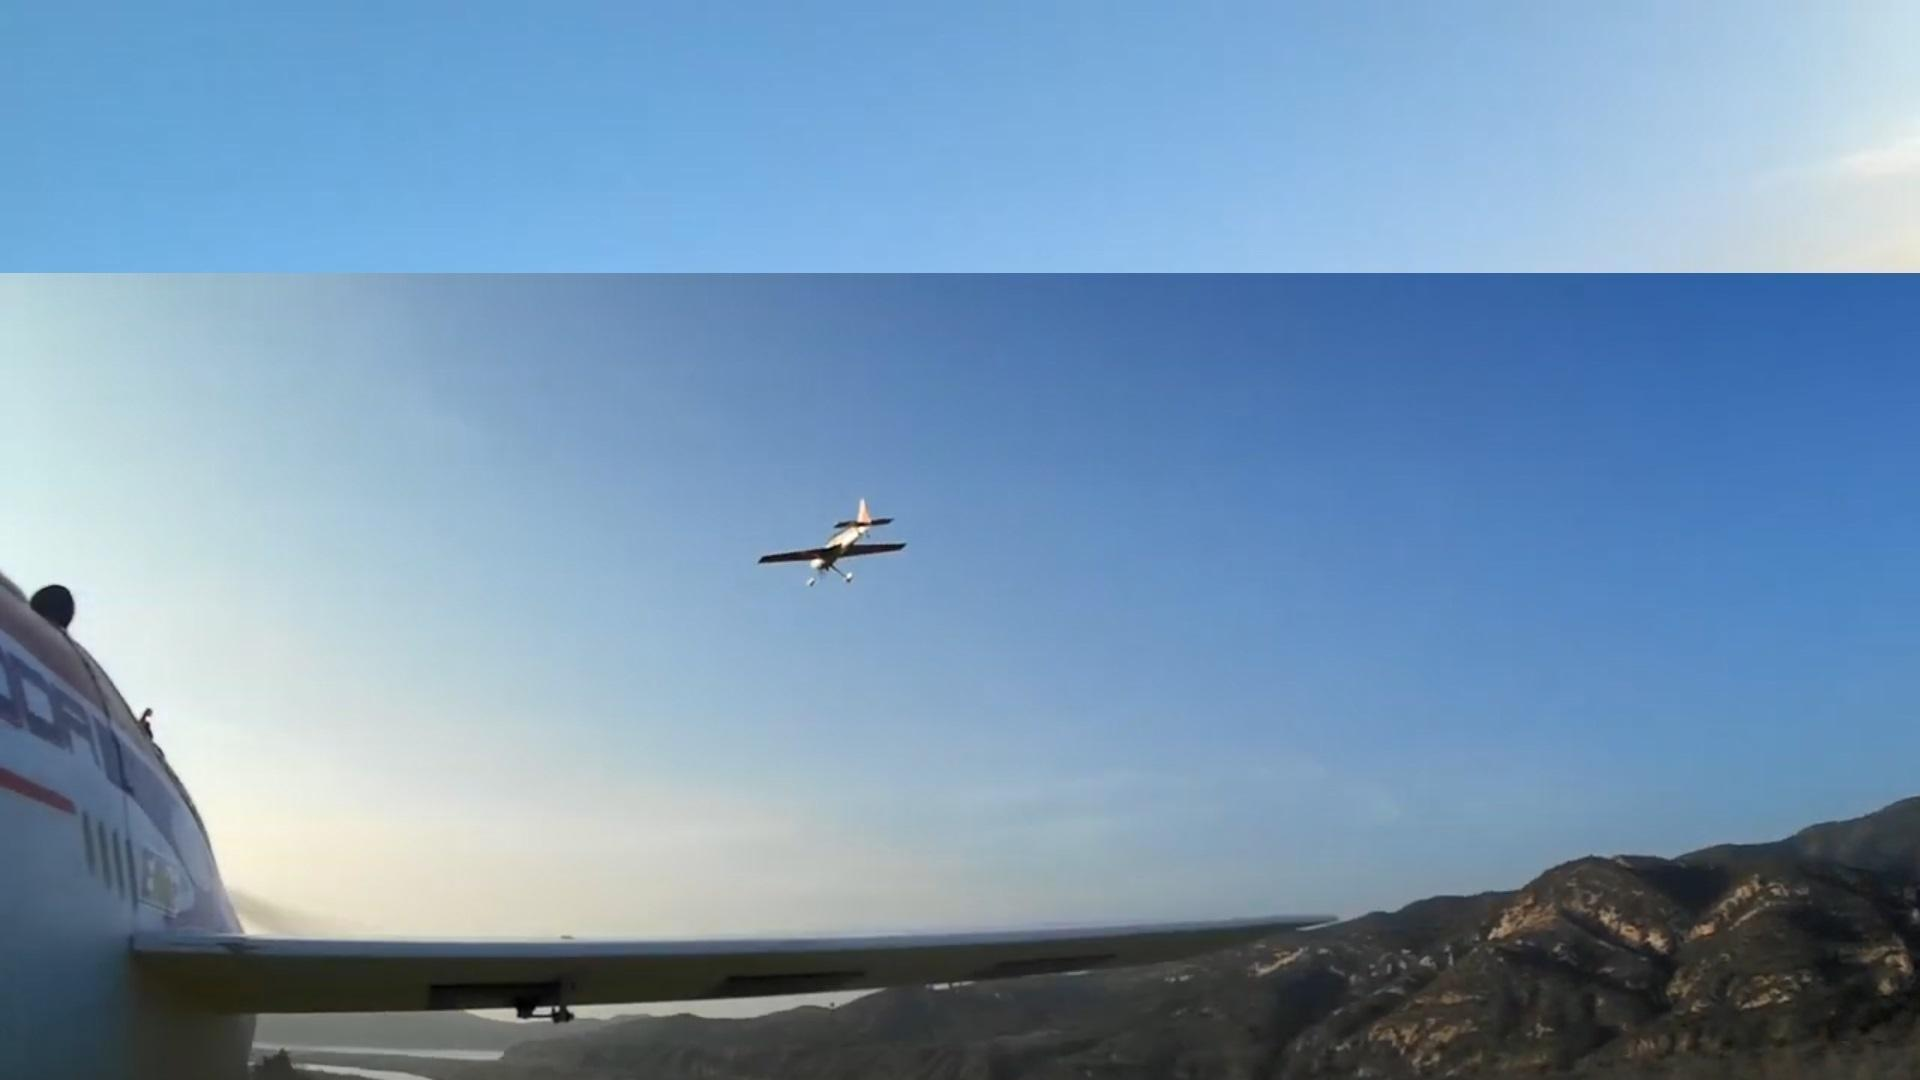Airplane: (753, 497, 912, 584)
